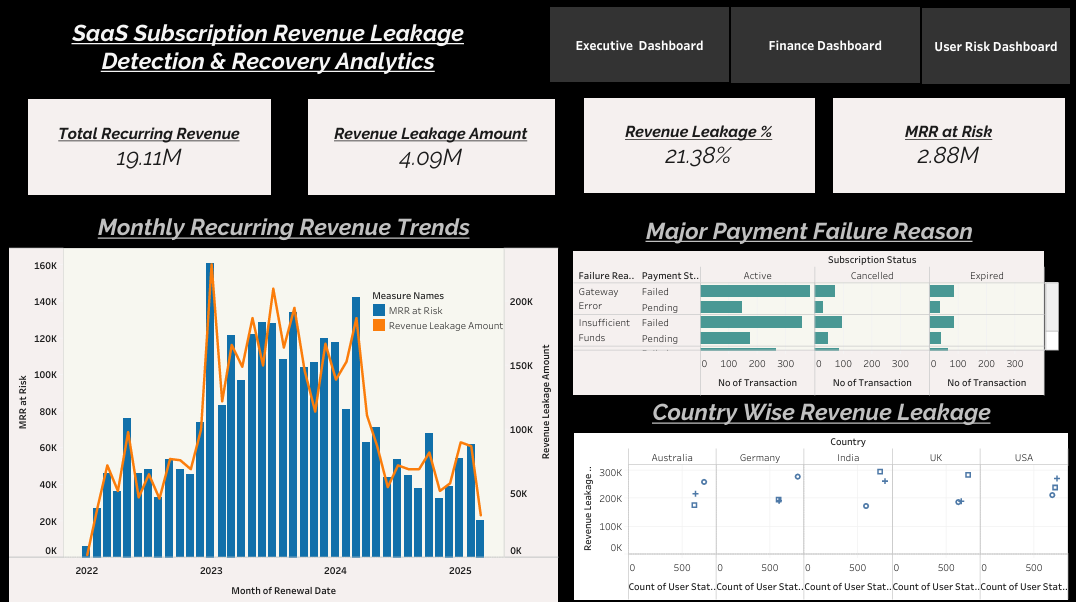

Layout of this report page (visuals, bound fields, positions):
{"tool":"tableau","page":{"name":"Excecutive Dashboard","canvas":[1366,768],"ordinal":0},"visuals":[{"type":"dashboard-object","box":[697,11,226,94]},{"type":"dashboard-object","box":[926,11,238,95]},{"type":"dashboard-object","box":[1168,12,186,95]},{"type":"title","box":[24,13,633,93]},{"type":"worksheet","title":"KPI Materics (3)","mark":"Automatic","box":[740,126,292,119]},{"type":"worksheet","title":"KPI Materics (4)","mark":"Automatic","box":[1055,126,293,119]},{"type":"worksheet","title":"KPI Materics","mark":"Automatic","box":[37,127,307,121]},{"type":"worksheet","title":"KPI Materics (2)","mark":"Automatic","box":[391,127,312,121]},{"type":"worksheet","title":"Monthly Recurring Revenue Trends","mark":"Automatic","rows":["Calculation_0001057944346641","Calculation_0001126268715109"],"cols":["renewal_date"],"box":[13,265,695,499]},{"type":"worksheet","title":"Major Payment Failure Reason","mark":"Automatic","rows":["failure_reason","payment_status"],"cols":["subscription_status","payment_status"],"box":[727,269,615,233]},{"type":"legend","title":"Monthly Recurring Revenue Trends","param":"[federated.1gl76tm1dfydtg106zycz1id6sig].[:Measure Names]","box":[471,364,172,59]},{"type":"worksheet","title":"Country Wise Revenue Leakage","mark":"Shape","rows":["Calculation_0001126268715109"],"cols":["country","user_status"],"box":[728,499,625,261]}]}

Visuals, with their boxes in screenshot pixels (x1, y1, x2, y2), scaled from the page's 1366x768 canvas onto the 1076x602 screenshot:
dashboard-object: <region>549, 9, 727, 82</region>
dashboard-object: <region>729, 9, 917, 83</region>
dashboard-object: <region>920, 9, 1067, 84</region>
title: <region>19, 10, 518, 83</region>
"KPI Materics (3)" worksheet: <region>583, 99, 813, 192</region>
"KPI Materics (4)" worksheet: <region>831, 99, 1062, 192</region>
"KPI Materics" worksheet: <region>29, 100, 271, 194</region>
"KPI Materics (2)" worksheet: <region>308, 100, 554, 194</region>
"Monthly Recurring Revenue Trends" worksheet: <region>10, 208, 558, 599</region>
"Major Payment Failure Reason" worksheet: <region>573, 211, 1057, 393</region>
"Monthly Recurring Revenue Trends" legend: <region>371, 285, 506, 332</region>
"Country Wise Revenue Leakage" worksheet (Shape marks): <region>573, 391, 1066, 596</region>
